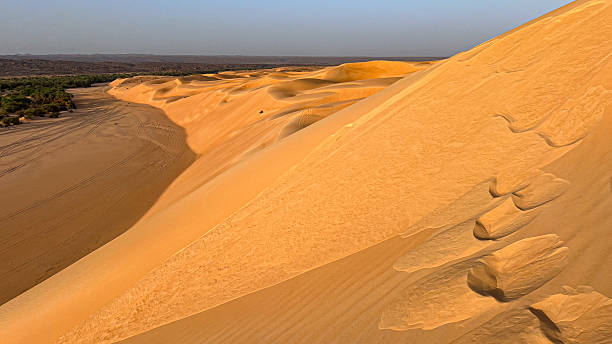human_foot_print: (379, 170, 567, 330)
